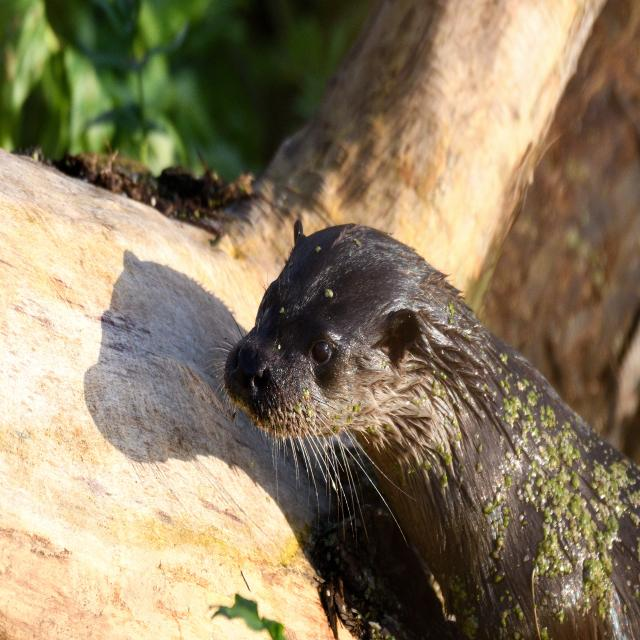otter: (230, 229, 640, 640)
